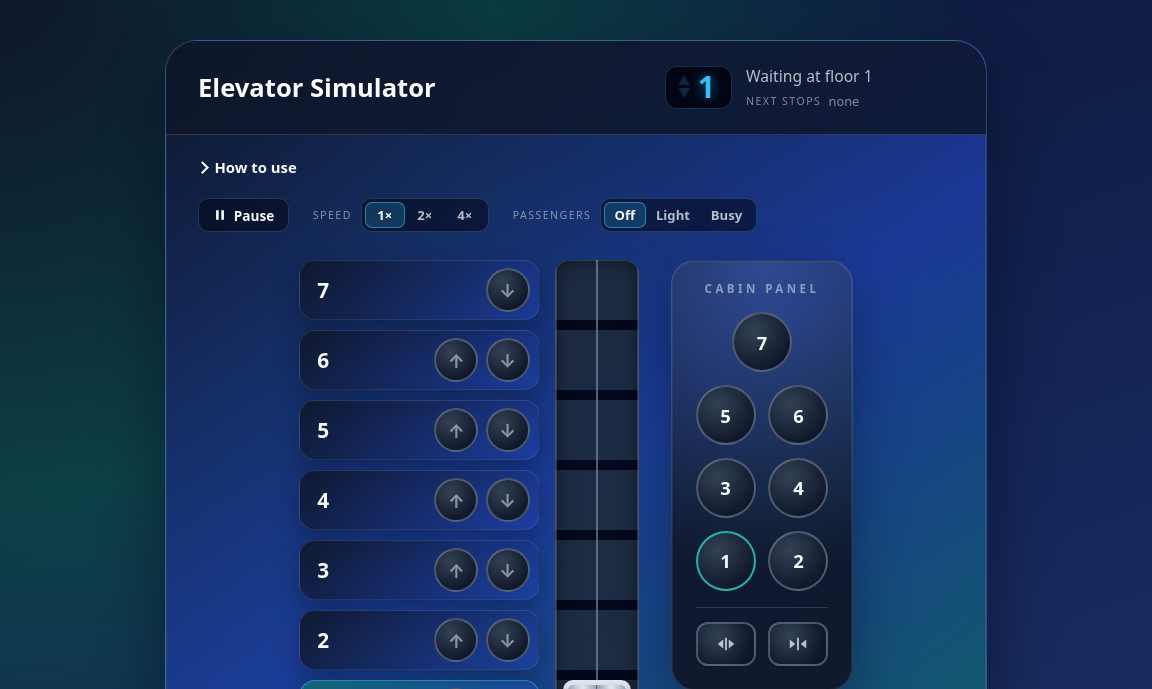
Test: lists the planned stops in order
The width and height of the screenshot is (1152, 689).
Click the button named "Go to floor 6" at {"x": 798, "y": 415}, box [768, 385, 828, 445]
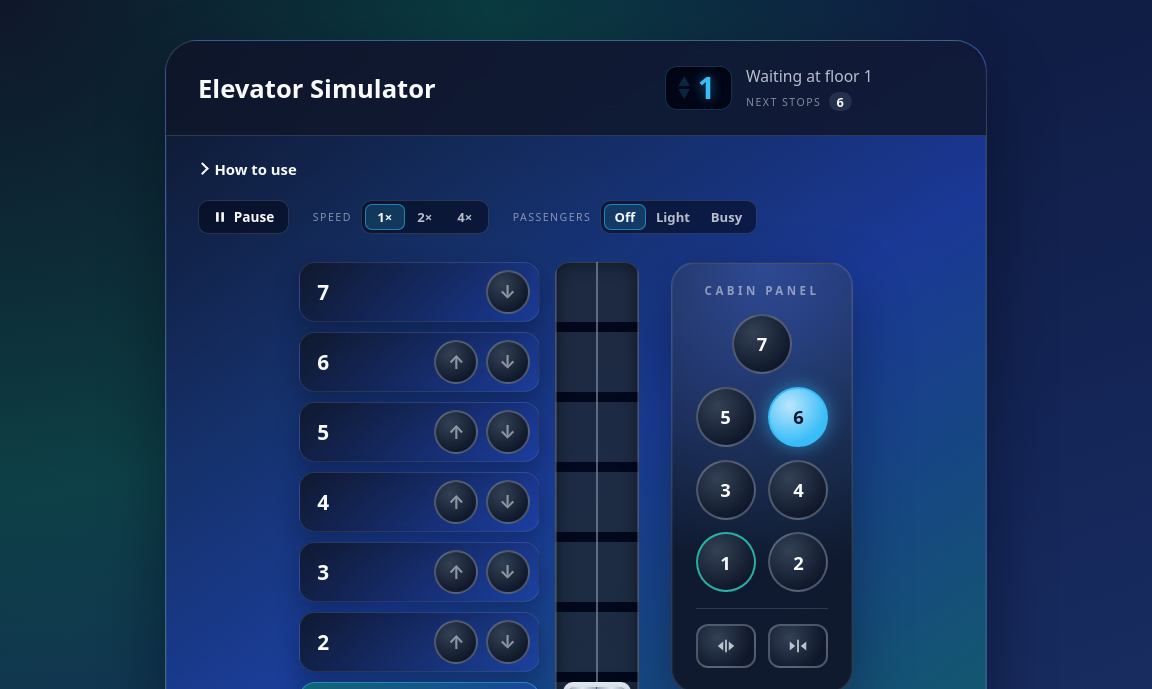
Click the button named "Call elevator down from floor 3" at {"x": 508, "y": 572}, box [486, 550, 530, 594]
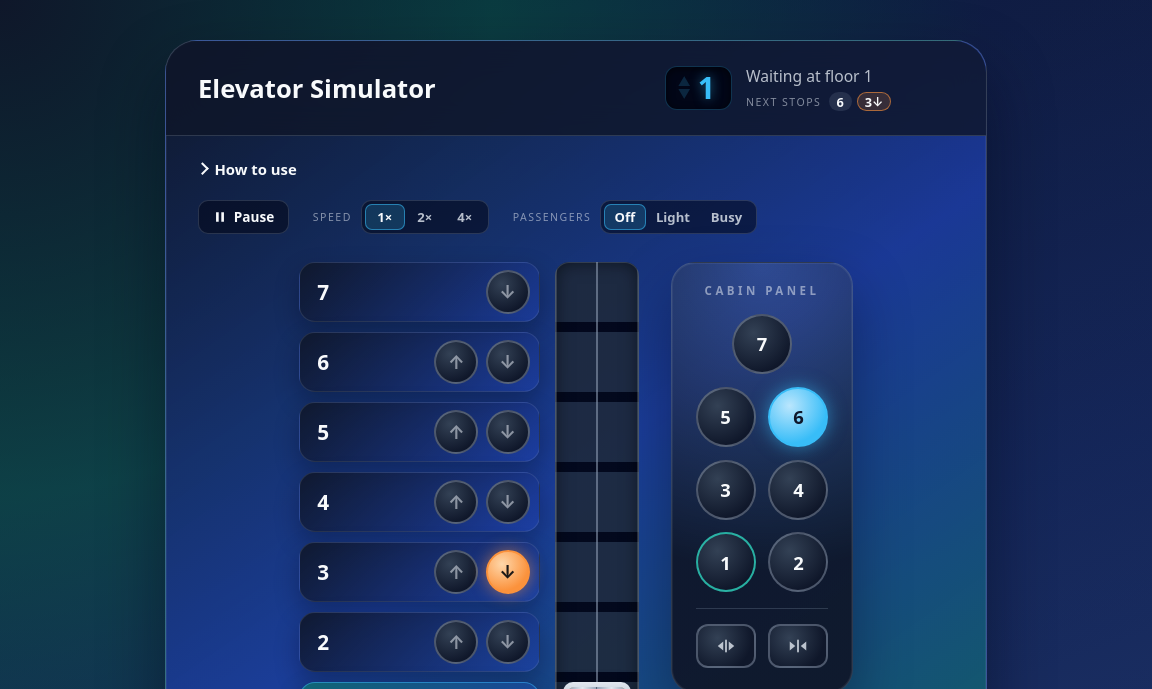
Click the button named "Go to floor 4" at {"x": 798, "y": 490}, box [768, 460, 828, 520]
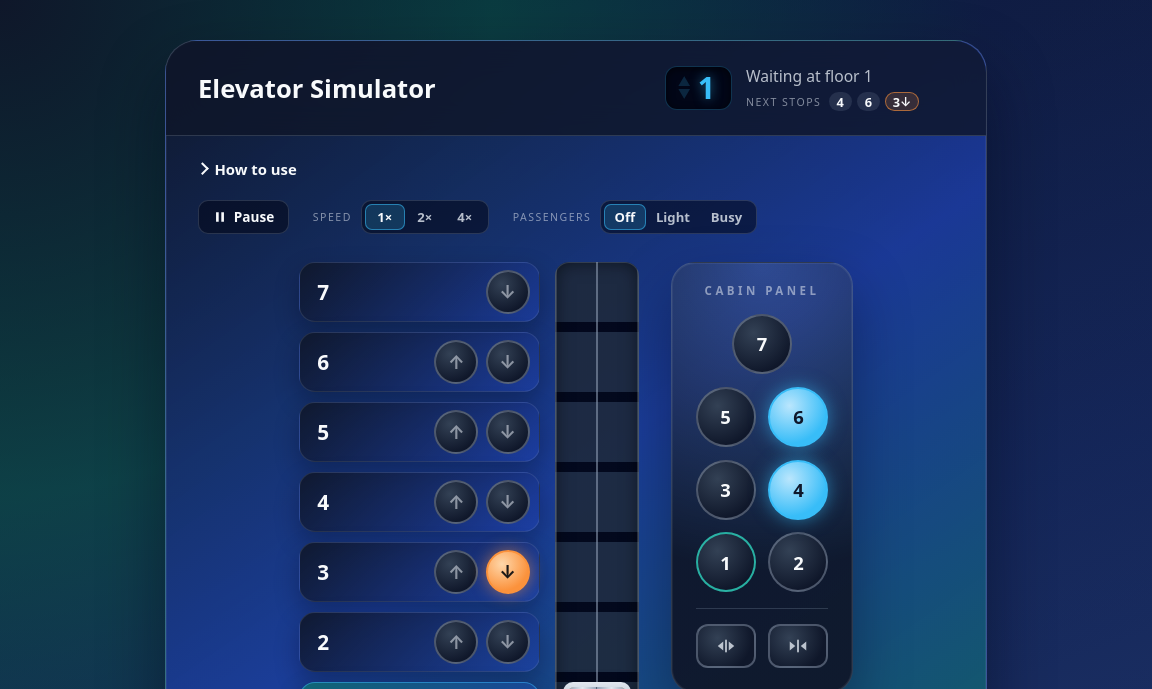
Now the list items read "4", "6", "3↓ down", in this order, box [828, 92, 852, 111]; [857, 92, 880, 111]; [885, 92, 919, 111]
